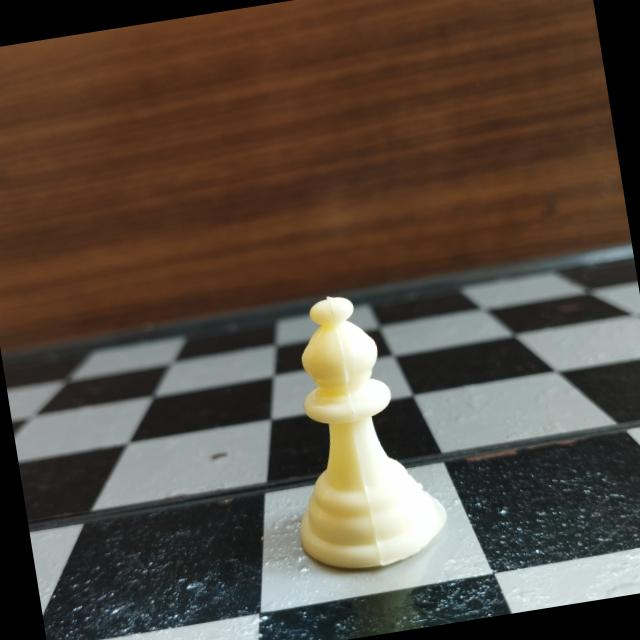White Bishop: (256, 272, 460, 582)
